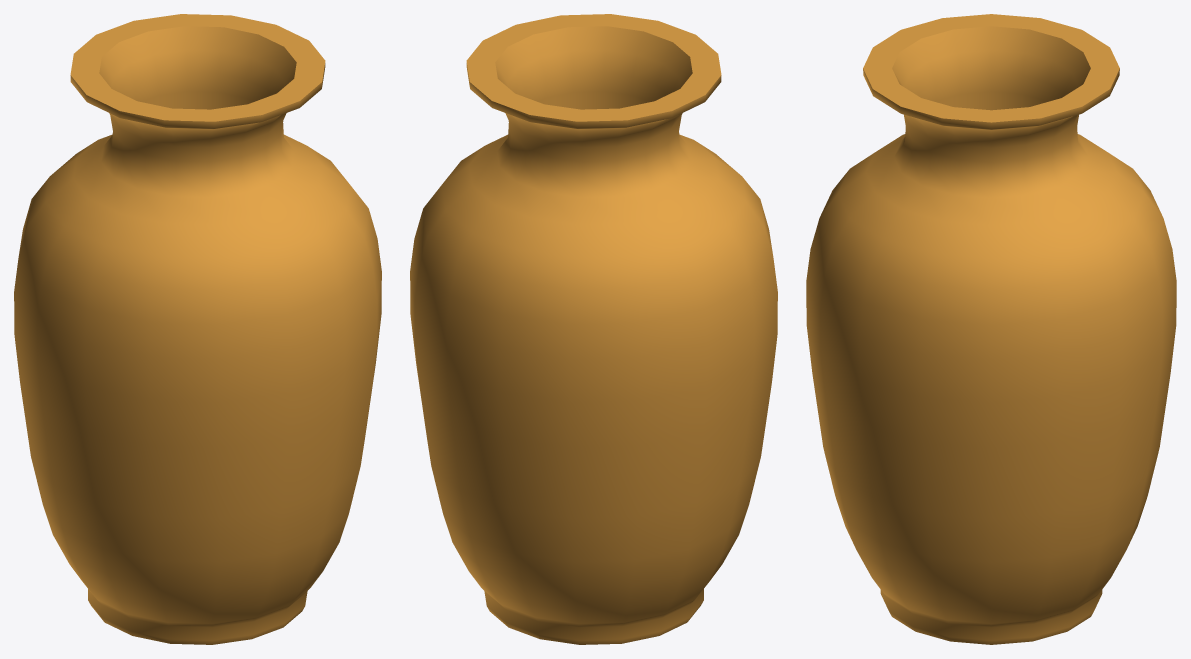
The model's file is F_Vase_01.fbx.
3 renders of one model, left to right at view 1: azimuth 30°, elevation 25°; view 2: azimuth 150°, elevation 25°; view 3: azimuth 270°, elevation 25°, orthographic.
Visible parts, largest first — view 1: F_Vase_01; view 2: F_Vase_01; view 3: F_Vase_01.
Boxes of the visible parts, bbox=[...] form: F_Vase_01: bbox=[14, 14, 381, 644]; F_Vase_01: bbox=[410, 14, 777, 644]; F_Vase_01: bbox=[806, 14, 1176, 644].
Bounding box in the file's own units: 46.48 × 73.52 × 46.48.
